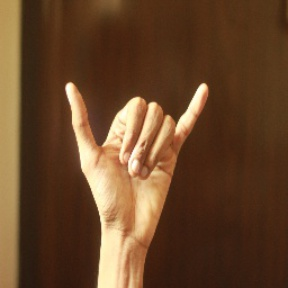J: (58, 58, 223, 249)
